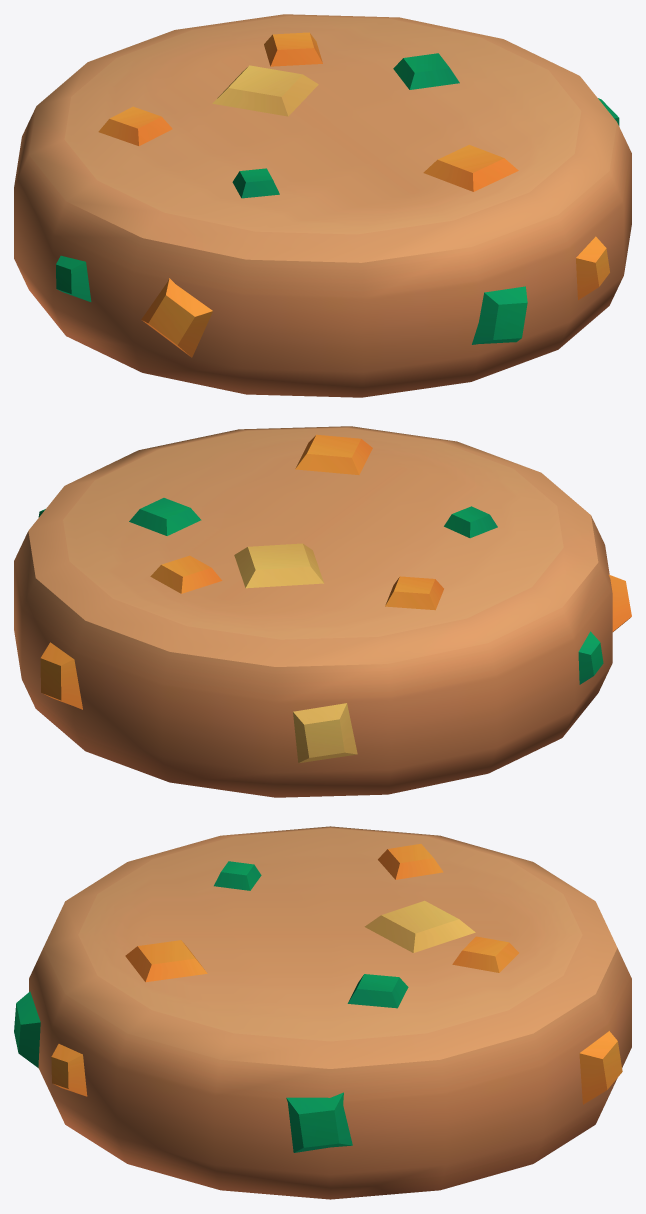
File: kaykit-restaurant-bits-food-ingredient-vegetableburger-uncooked.glb
3 renders of one model, top to bottom at view 1: azimuth 30°, elevation 25°; view 2: azimuth 150°, elevation 25°; view 3: azimuth 270°, elevation 25°, orthographic. The views are drawn at different scales.
Parts seen in each view (by area): view 1: food_ingredient_vegetableburger_uncooked; view 2: food_ingredient_vegetableburger_uncooked; view 3: food_ingredient_vegetableburger_uncooked.
Part boxes in pixels (x1,y1,x2,y2): food_ingredient_vegetableburger_uncooked: (14, 14, 631, 397); food_ingredient_vegetableburger_uncooked: (14, 426, 631, 797); food_ingredient_vegetableburger_uncooked: (14, 826, 631, 1199).
Size of the model in its own units: 0.728 by 0.216 by 0.7173.
Materials: 1 (1 with a texture image).
